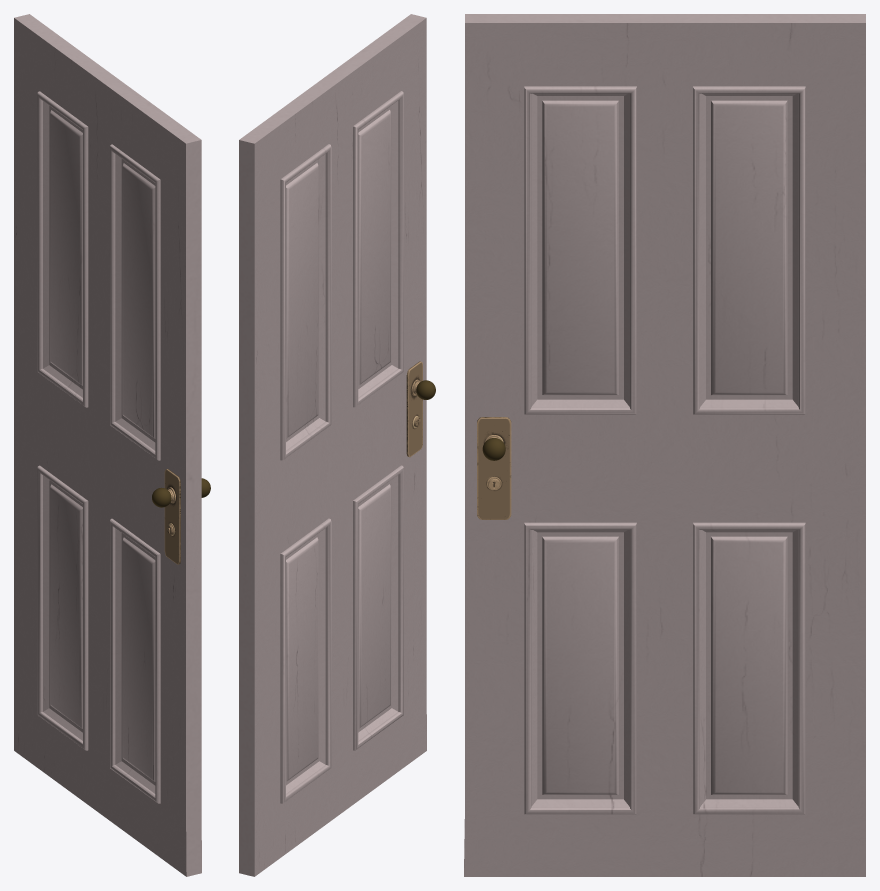
The model's file is Door_A.fbx.
3 renders of one model, left to right at view 1: azimuth 30°, elevation 25°; view 2: azimuth 150°, elevation 25°; view 3: azimuth 270°, elevation 25°, orthographic. The views are drawn at different scales.
Visible parts, largest first — view 1: Door_A; view 2: Door_A; view 3: Door_A.
Boxes of the visible parts, x1,y1,x2,y2 form: Door_A: (14, 14, 210, 876); Door_A: (239, 14, 435, 876); Door_A: (464, 14, 865, 876).
Bounding box in the file's own units: 0.1894 × 1 × 2.35.
3 materials, 2 textured.
